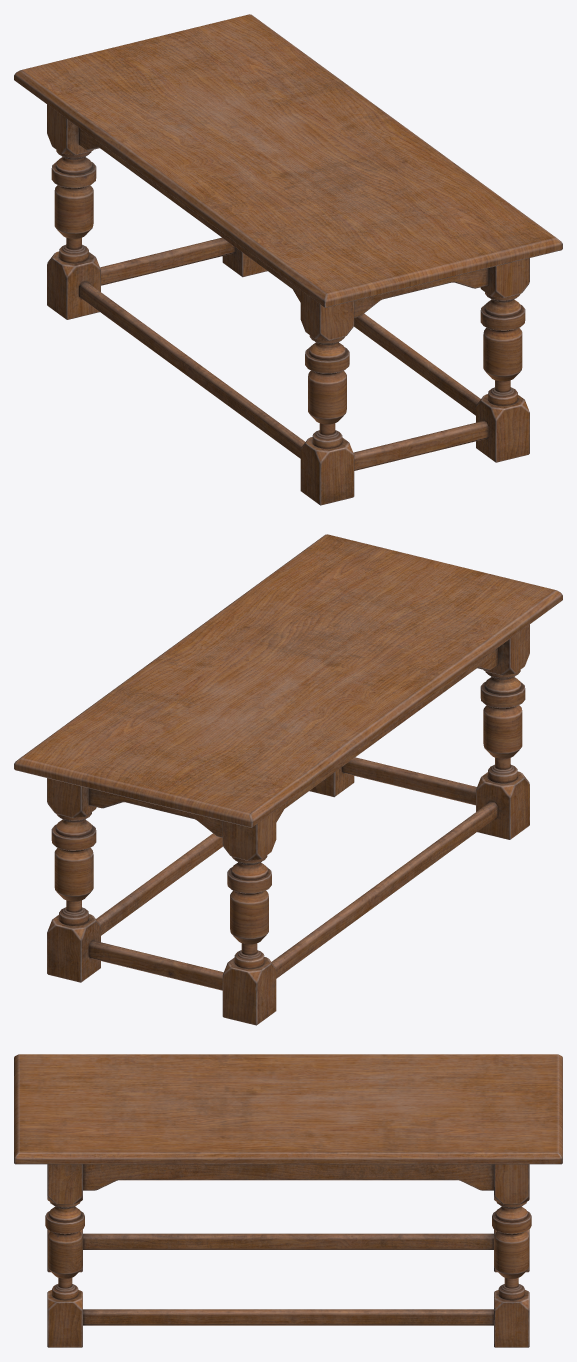
File: SM_ChurchTable.fbx
3 views of the same model, one above another, from view 1: azimuth 30°, elevation 25°; view 2: azimuth 150°, elevation 25°; view 3: azimuth 270°, elevation 25° (orthographic). The views are drawn at different scales.
Parts seen in each view (by area): view 1: SM_ChurchTable_LOD0; view 2: SM_ChurchTable_LOD0; view 3: SM_ChurchTable_LOD0.
Boxes of the visible parts, left/top/right/bottom form: SM_ChurchTable_LOD0: left=14, top=14, right=562, bottom=505; SM_ChurchTable_LOD0: left=14, top=534, right=562, bottom=1025; SM_ChurchTable_LOD0: left=14, top=1054, right=562, bottom=1347.
Bounding box in the file's own units: 109 × 246 × 98.69.
1 material, 1 textured.
